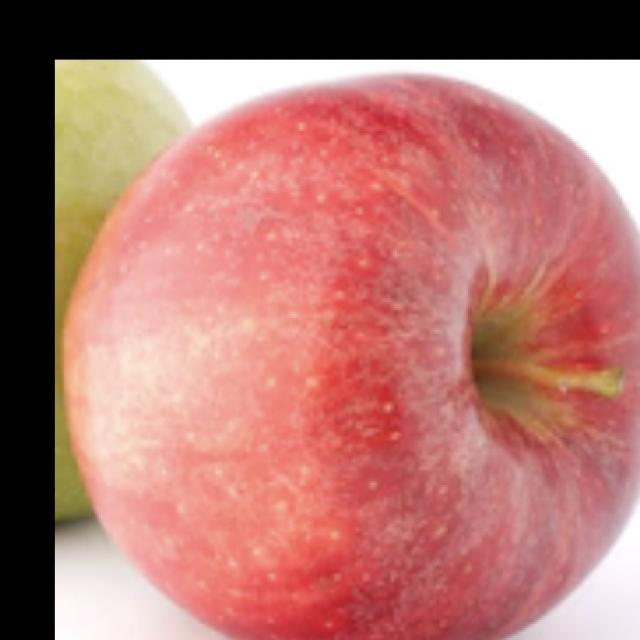Fresh Apple: (81, 95, 640, 640)
